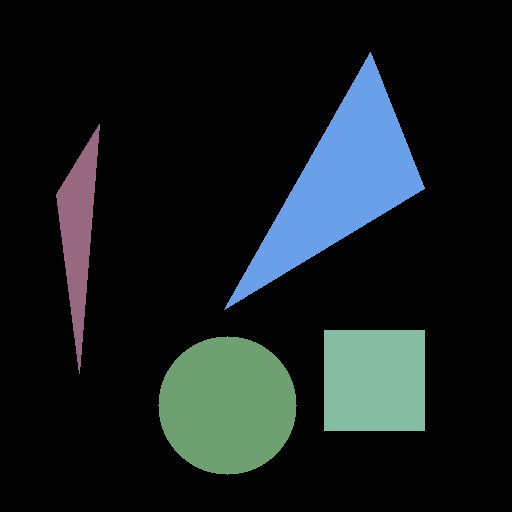circle: (158, 336, 296, 474)
square: (324, 330, 424, 430)
triangle: (224, 52, 424, 309), (56, 124, 99, 373)
